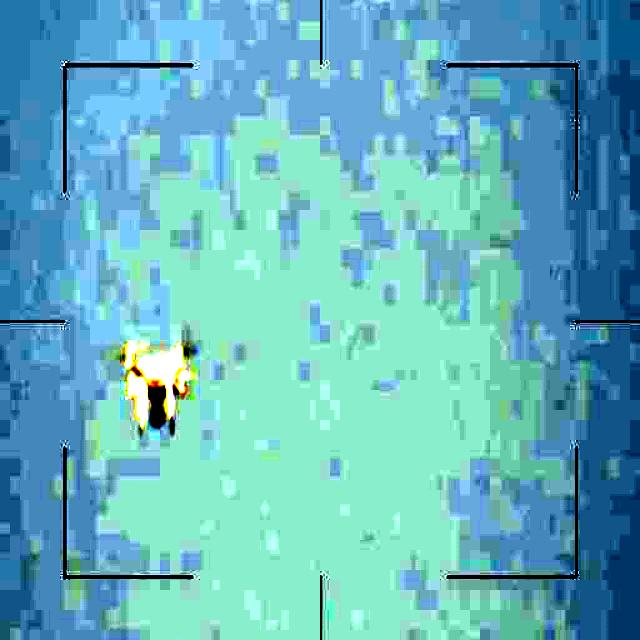bird: (112, 339, 196, 440)
